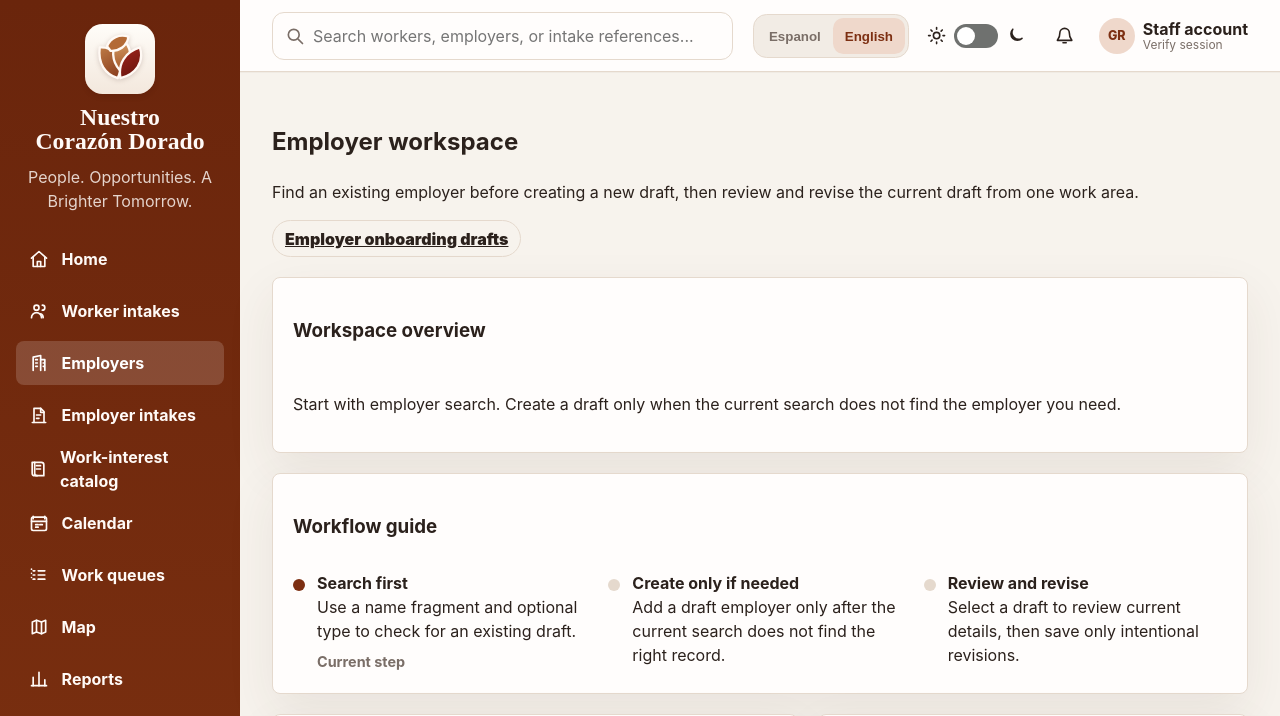
Scenario: App › switches the real app between complete English and Spanish catalogs
The width and height of the screenshot is (1280, 716).
Expected: the heading "Nuestro Corazón Dorado" is shown, [36,106,204,153]
Step 1. Click the button with aria-label "Cambiar a español" → (795, 36), box [757,18,833,54]
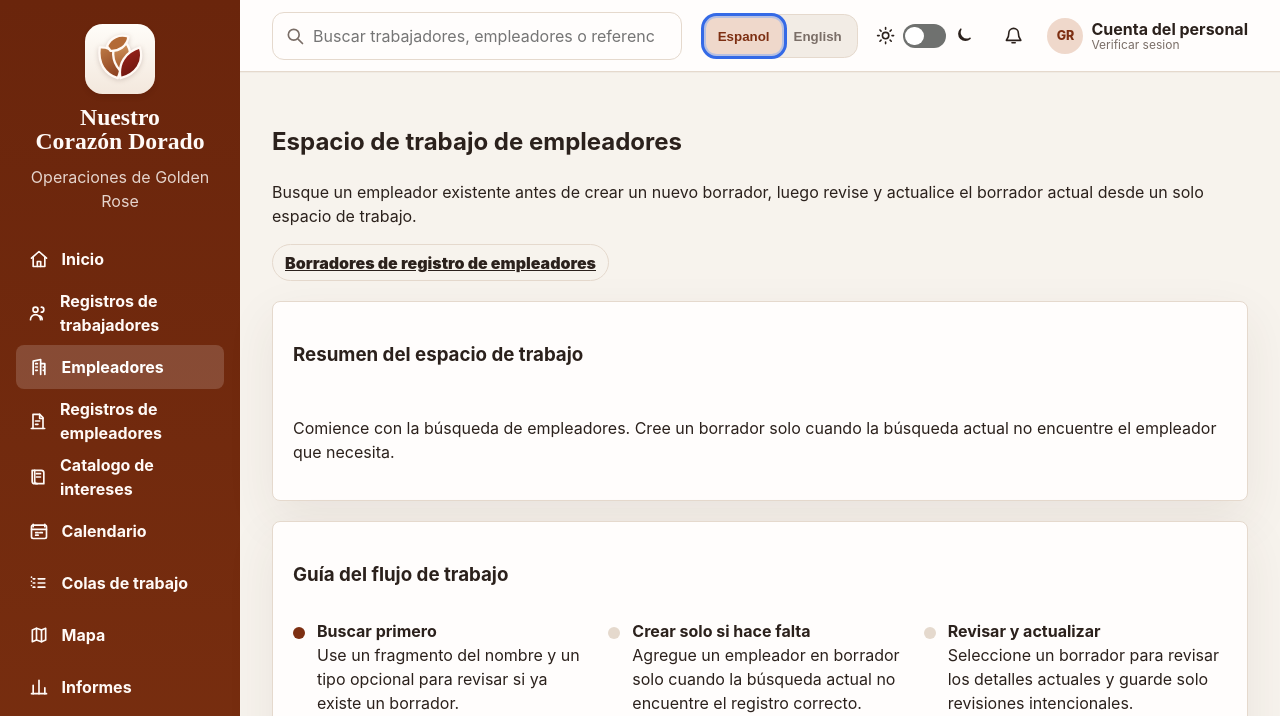
Result: the heading "Buscar primero" is shown at [317,621,437,641]
Result: the heading "Crear solo si hace falta" is shown at [632,621,810,641]
Result: the heading "Revisar y actualizar" is shown at [948,621,1101,641]
Step 2. Click the button with aria-label "Switch to English" → (818, 36), box [782,18,854,54]
(page scrolled)
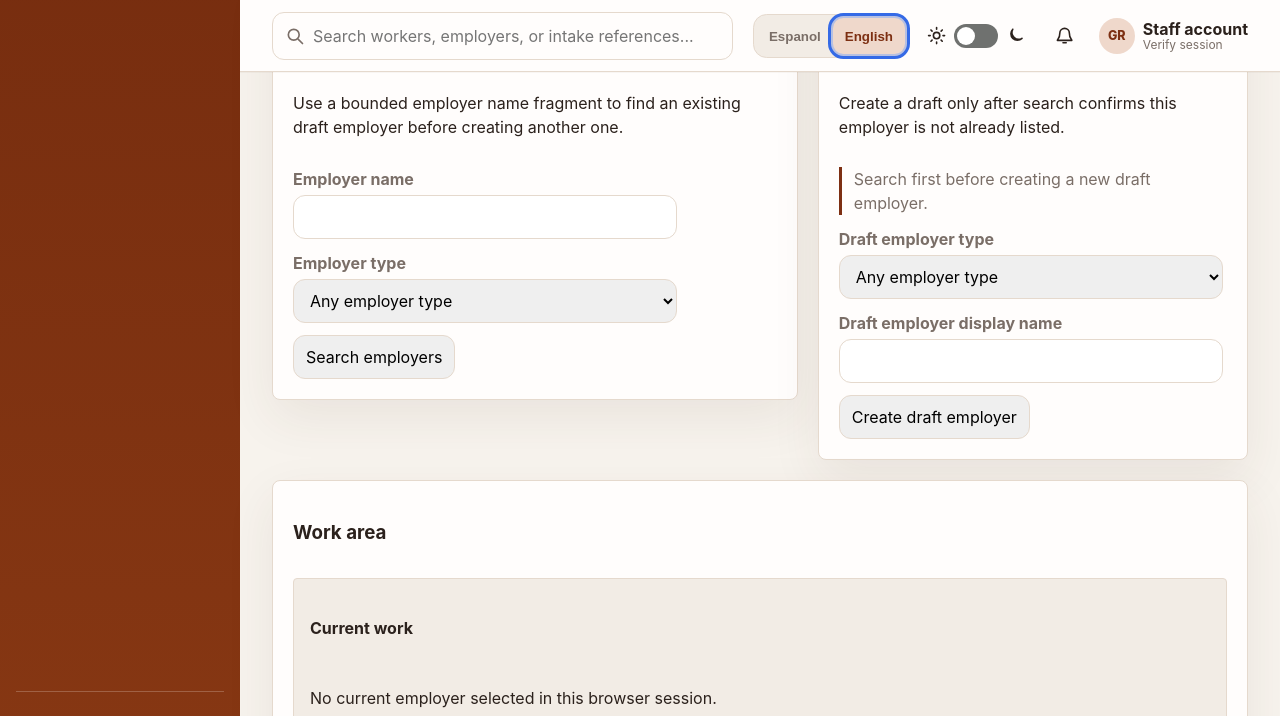
Expected: the field labelled "Employer name" is shown, [293,195,677,239]
Result: the heading "Find an employer" is shown at [293,18,450,41]
